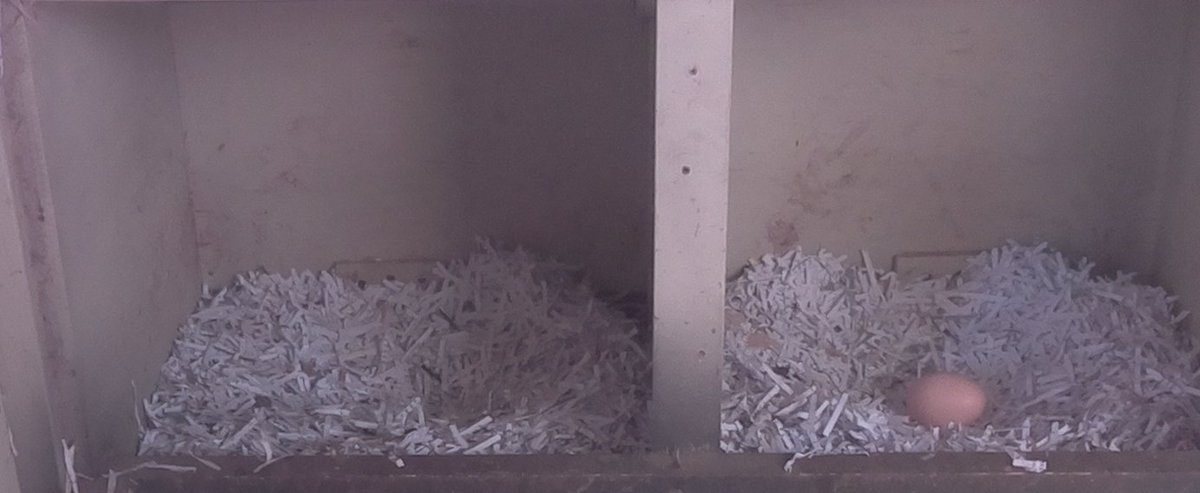egg: (897, 369, 990, 431)
